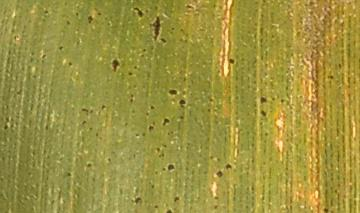tarspot: (149, 14, 162, 41), (110, 57, 121, 72), (132, 6, 144, 19), (130, 196, 143, 206), (226, 56, 236, 66), (184, 2, 195, 11), (86, 14, 94, 26), (259, 95, 268, 105), (214, 169, 223, 179), (167, 88, 178, 96), (162, 117, 170, 128), (260, 108, 268, 119), (159, 35, 167, 45), (178, 98, 186, 107), (224, 163, 233, 171), (167, 163, 175, 172), (336, 62, 343, 72), (172, 195, 180, 203), (57, 44, 65, 52), (85, 162, 93, 170), (147, 124, 154, 133), (149, 182, 156, 191), (129, 93, 135, 103), (152, 203, 159, 211), (80, 107, 88, 114), (2, 124, 10, 131), (96, 11, 103, 19), (164, 208, 174, 213), (139, 52, 146, 59), (161, 142, 168, 149), (212, 204, 219, 211), (74, 10, 80, 18), (67, 60, 73, 68), (149, 103, 155, 111), (326, 74, 334, 80), (279, 97, 285, 105), (181, 89, 187, 97), (100, 103, 106, 111), (154, 145, 160, 153), (153, 169, 159, 177), (39, 53, 47, 59), (127, 71, 133, 78), (66, 171, 72, 178), (208, 97, 215, 103), (81, 120, 88, 126), (213, 195, 219, 202), (106, 156, 112, 163), (144, 110, 150, 117), (169, 26, 176, 32), (106, 20, 112, 27), (141, 131, 146, 139), (161, 166, 167, 172), (65, 19, 71, 25), (42, 9, 48, 15), (178, 115, 184, 121), (134, 132, 140, 138), (206, 107, 211, 114), (94, 131, 99, 138), (322, 208, 328, 213), (141, 47, 146, 53), (270, 96, 275, 102), (133, 65, 137, 70)
